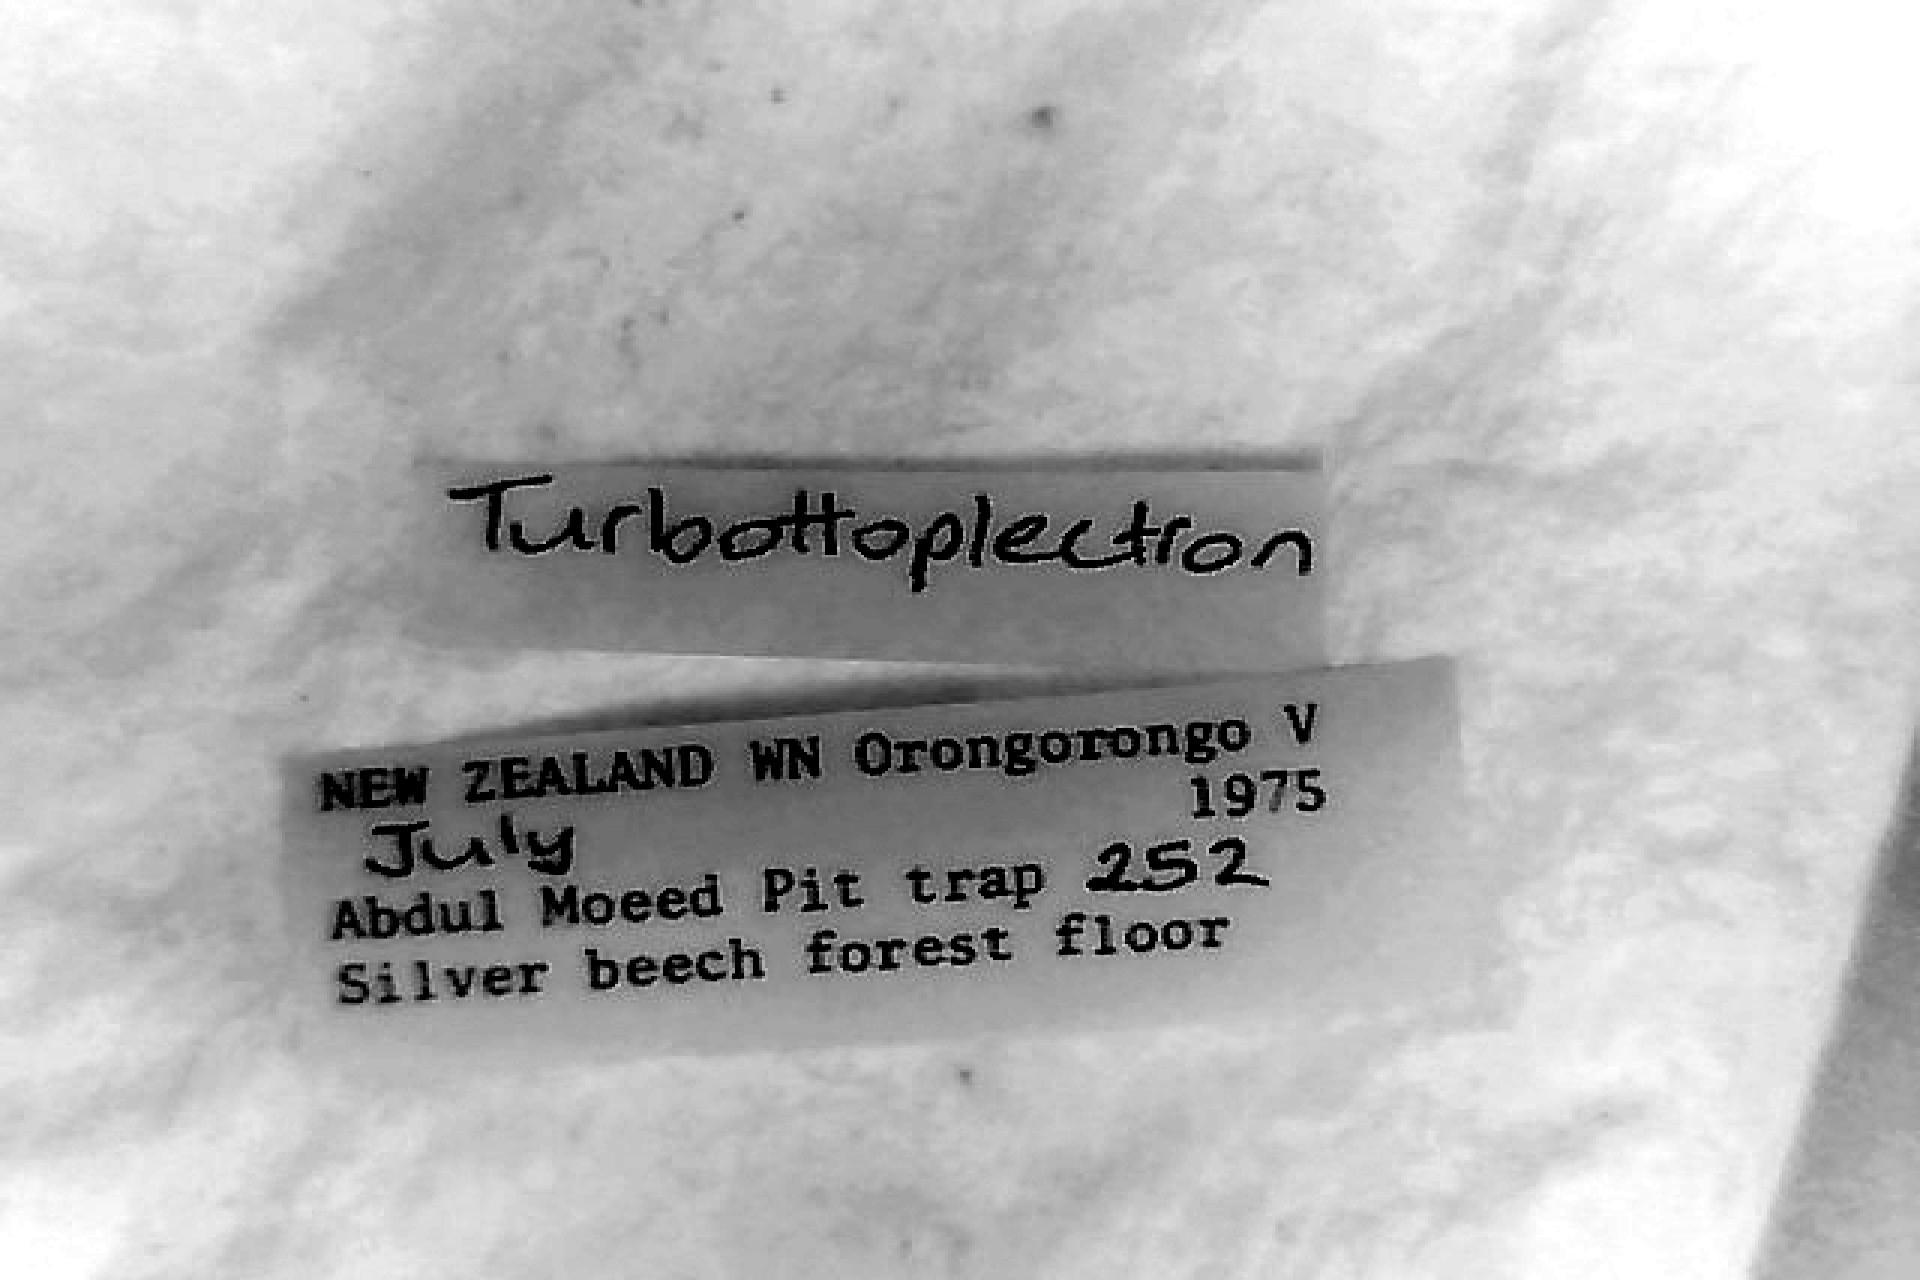hand_label: (427, 463, 1324, 669)
mixed_label: (289, 660, 1477, 1050)
